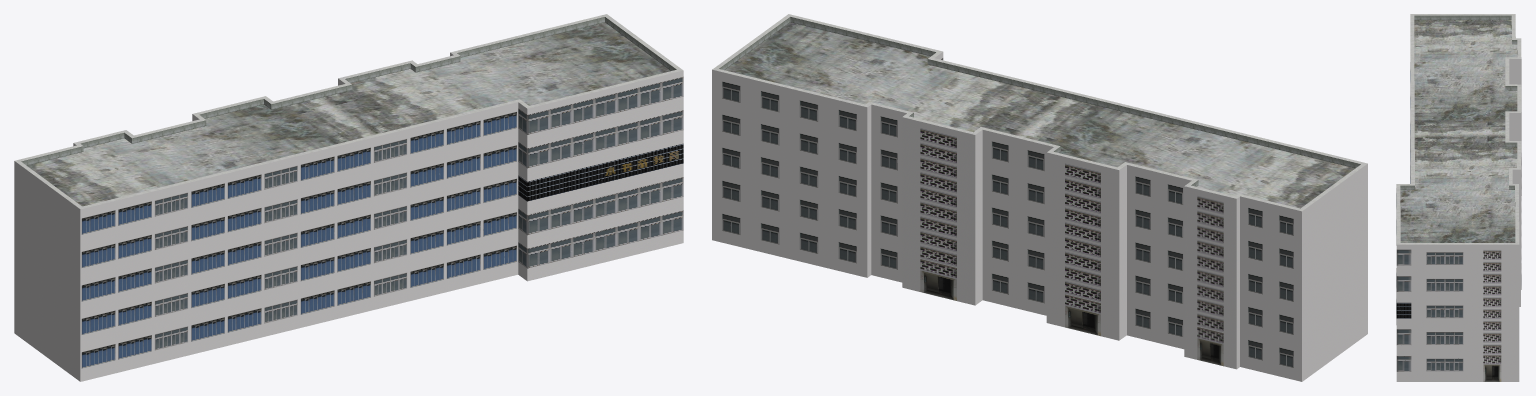
The picture shows the model from 3 angles, left to right: view 1: azimuth 30°, elevation 25°; view 2: azimuth 150°, elevation 25°; view 3: azimuth 270°, elevation 25°; orthographic projection. The views are drawn at different scales.
Parts seen in each view (by area): view 1: jz19; view 2: jz19; view 3: jz19.
Part boxes in pixels (x1,y1,x2,y2): jz19: [14, 14, 683, 381]; jz19: [712, 14, 1367, 381]; jz19: [1396, 14, 1521, 381].
Bounding box in the file's own units: 5591 × 1550 × 1280.
Materials: 13 (13 with a texture image).
